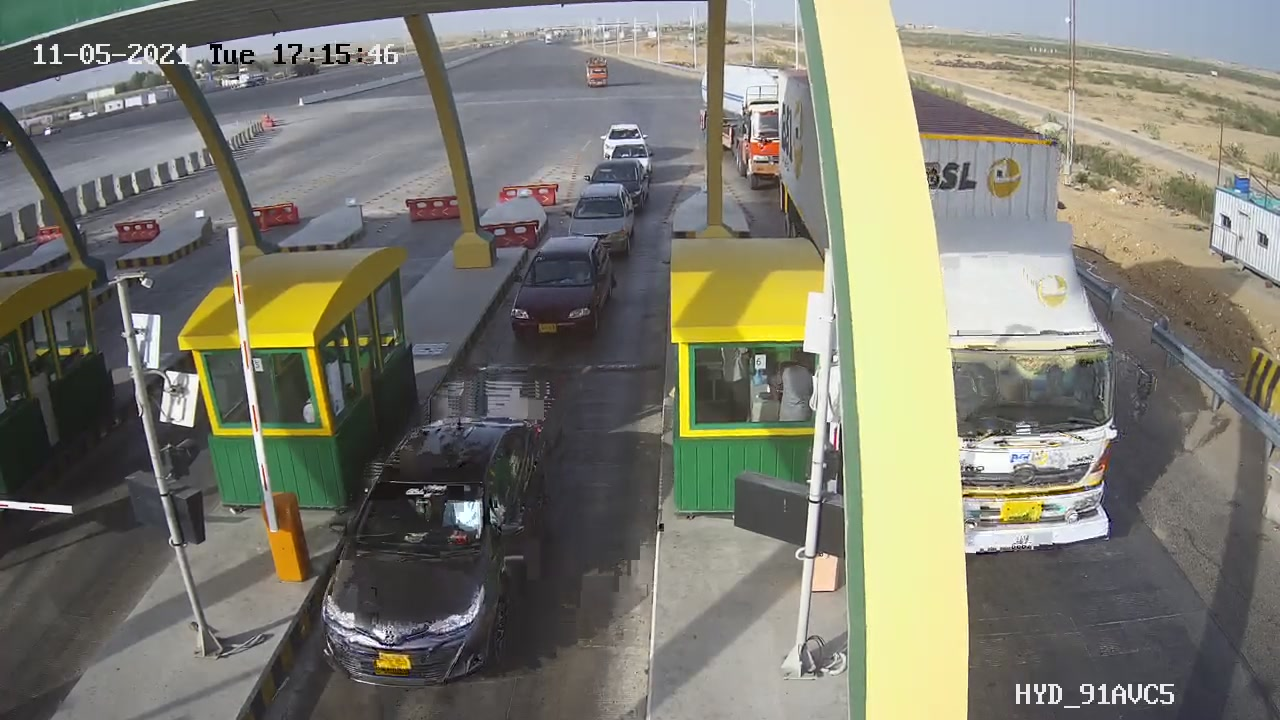F1: (492, 224, 631, 356)
